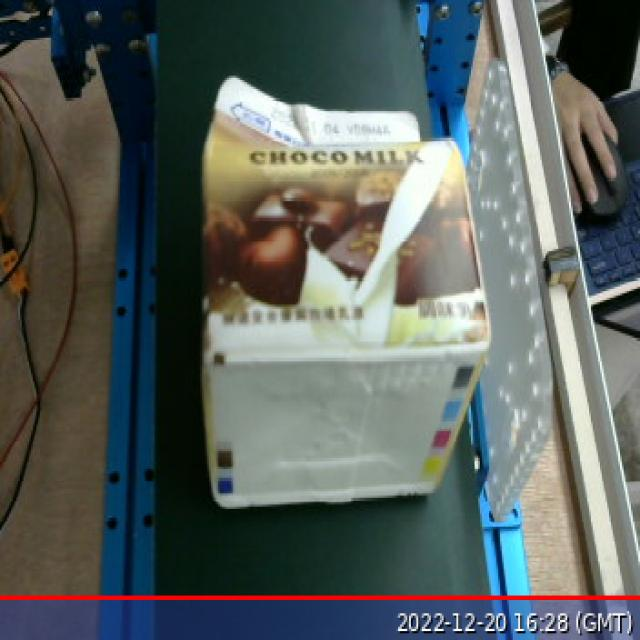non_white_jug: (187, 60, 505, 526)
